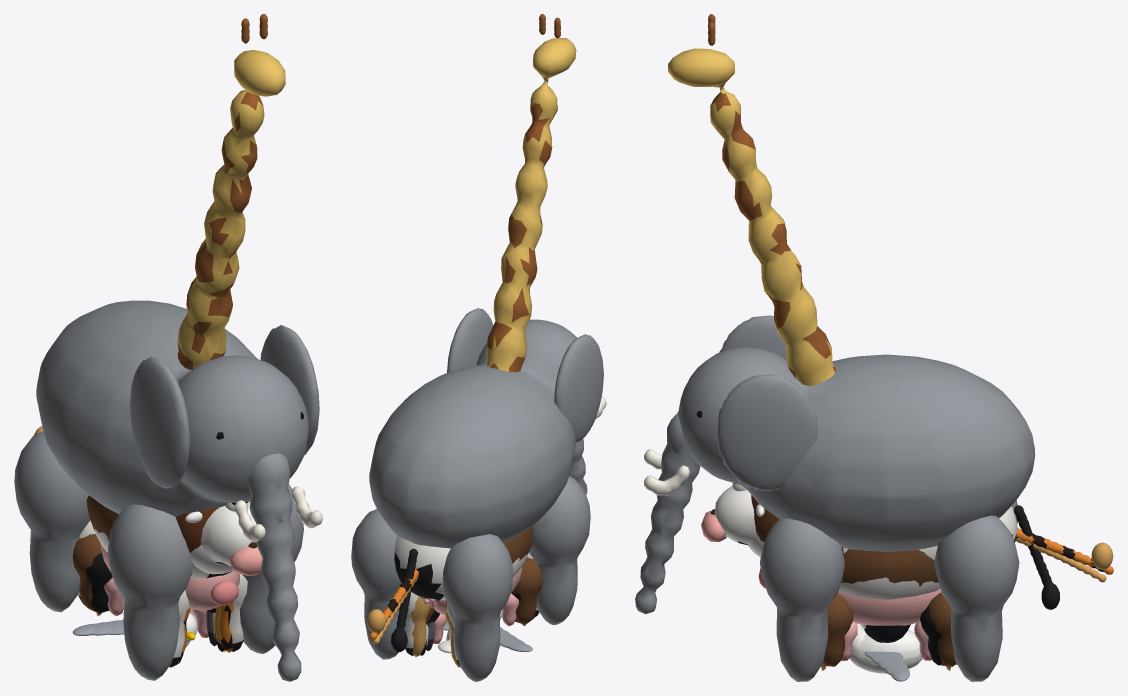
File: animals.glb
3 views of the same model, side by side, from view 1: azimuth 30°, elevation 25°; view 2: azimuth 150°, elevation 25°; view 3: azimuth 270°, elevation 25° (orthographic). The views are drawn at different scales.
Visible parts, largest first — view 1: elephant_body, giraffe_body, elephant_leg1, elephant_ears, elephant_leg3, elephant_trunk, elephant_leg0, cow_body, elephant_tusks, pig_body, bear_leg3, panda_leg3 (+10 smaller); view 2: elephant_body, giraffe_body, elephant_leg3, elephant_leg1, elephant_ears, elephant_leg2, cow_body, bear_leg1, cow_tail, lion_leg2, lion_tail, bear_body (+4 smaller); view 3: elephant_body, giraffe_body, elephant_ears, elephant_leg2, elephant_leg0, elephant_trunk, bear_body, cow_body, pig_body, panda_body, gull_body, bear_leg0 (+6 smaller).
Part boxes in pixels (x1,y1,x2,y2): elephant_body: (36,300,308,516); giraffe_body: (177,50,285,369); elephant_leg1: (108,504,192,680); elephant_ears: (129,325,319,488); elephant_leg3: (14,431,90,612); elephant_trunk: (248,453,301,681); elephant_leg0: (239,484,303,653); cow_body: (86,493,256,578); elephant_tusks: (234,486,322,542); pig_body: (100,543,240,610); bear_leg3: (72,534,101,611); panda_leg3: (85,552,112,613); elephant_body: (369,319,577,548); giraffe_body: (486,38,576,372); elephant_leg3: (442,534,512,681); elephant_leg1: (529,476,590,625); elephant_ears: (447,308,603,442); elephant_leg2: (351,509,407,659); cow_body: (394,535,450,600); bear_leg1: (512,557,542,624); cow_tail: (391,548,418,651); lion_leg2: (411,596,430,656); lion_tail: (366,576,417,644); bear_body: (504,526,532,563); elephant_body: (678,347,1035,551); giraffe_body: (668,48,835,385); elephant_ears: (717,315,817,490); elephant_leg2: (934,515,1019,681); elephant_leg0: (760,518,844,681); elephant_trunk: (635,412,700,614); bear_body: (841,549,938,586); cow_body: (714,486,1017,559); pig_body: (837,588,941,625); panda_body: (748,534,939,599); gull_body: (849,623,922,673); bear_leg0: (822,594,853,666).
Size of the model in its own units: 1.49 by 5.16 by 3.43.
